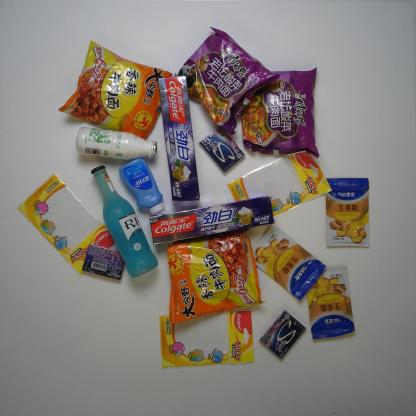Alcohol: (89, 164, 160, 279)
Gum: (258, 307, 308, 361), (199, 125, 246, 173), (81, 243, 127, 283)
Instant Noodles: (57, 38, 174, 141), (176, 25, 282, 138), (166, 227, 268, 324), (240, 66, 321, 160)
Milk: (74, 126, 160, 162)
Personal Hygiene: (147, 193, 276, 245), (155, 74, 204, 204), (117, 156, 168, 218)
Seasoner: (248, 222, 328, 301), (306, 264, 356, 341), (324, 175, 371, 249)
Stationery: (15, 171, 116, 278), (226, 149, 332, 221), (158, 308, 256, 370)
